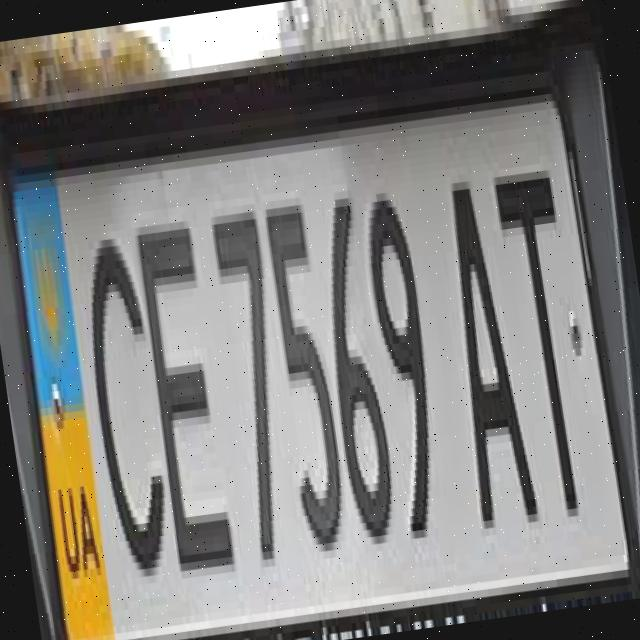Autre: (4, 107, 638, 640)
